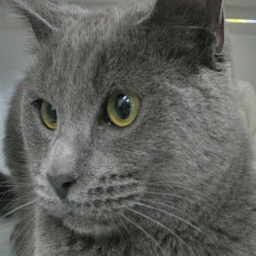cat: (8, 3, 256, 256)
